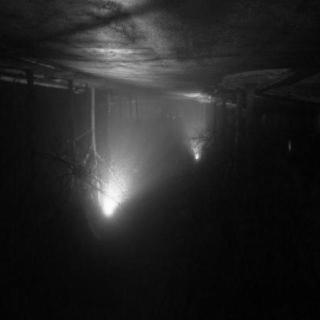other: (96, 180, 126, 223), (195, 140, 202, 163)
